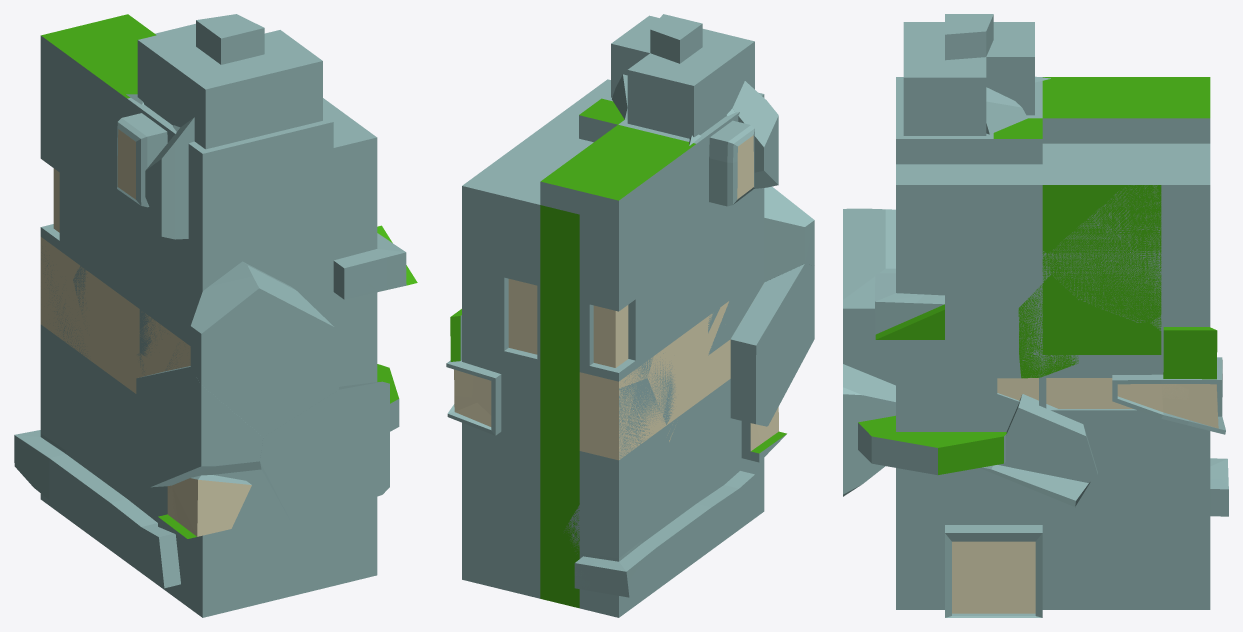
Rendered from BumpyBuilding.fbx.
3 views of the same model, side by side, from view 1: azimuth 30°, elevation 25°; view 2: azimuth 150°, elevation 25°; view 3: azimuth 270°, elevation 25° (orthographic). The views are drawn at different scales.
Visible parts, largest first — view 1: Building.001, Building.001_cell.068, Building.001_cell.055, Building.001_cell.095, Building.001_cell.033, Building.001_cell.034, Building.001_cell.088, Building.001_cell.022, Building.001_cell.023, Building.001_cell.007, Building.001_cell.090, Building.001_cell.076 (+20 smaller); view 2: Building.001, Building.001_cell.095, Building.001_cell.007, Building.001_cell.076, Building.001_cell.068, Building.001_cell.036, Building.001_cell.023, Building.001_cell.018, Building.001_cell.090, Building.001_cell.098, Building.001_cell.053, Building.001_cell.092 (+15 smaller); view 3: Building.001, Building.001_cell.012, Building.001_cell.068, Building.001_cell.087, Building.001_cell.055, Building.001_cell.069, Building.001_cell.019, Building.001_cell.044, Building.001_cell.085, Building.001_cell.081, Building.001_cell.009, Building.001_cell.046 (+15 smaller).
Part boxes in pixels (x1,y1,x2,y2): Building.001: (14,14,417,617); Building.001_cell.068: (190,261,338,436); Building.001_cell.055: (260,381,399,524); Building.001_cell.095: (136,366,263,487); Building.001_cell.033: (242,195,355,286); Building.001_cell.034: (262,471,355,596); Building.001_cell.088: (172,469,262,573); Building.001_cell.022: (173,551,289,614); Building.001_cell.023: (145,117,194,239); Building.001_cell.007: (139,246,202,371); Building.001_cell.090: (96,386,143,512); Building.001_cell.076: (53,45,109,244); Building.001: (446,14,786,617); Building.001_cell.095: (730,264,814,426); Building.001_cell.007: (708,217,764,355); Building.001_cell.076: (630,183,680,325); Building.001_cell.068: (764,186,814,282); Building.001_cell.036: (619,378,665,500); Building.001_cell.023: (732,81,778,188); Building.001_cell.018: (629,442,683,564); Building.001_cell.090: (669,442,716,523); Building.001_cell.098: (671,176,738,269); Building.001_cell.053: (564,502,599,576); Building.001_cell.092: (704,418,738,493); Building.001: (858,14,1228,617); Building.001_cell.012: (913,233,1050,342); Building.001_cell.068: (843,208,895,385); Building.001_cell.087: (1048,157,1185,322); Building.001_cell.055: (843,364,1003,496); Building.001_cell.069: (998,394,1097,482); Building.001_cell.019: (896,472,952,580); Building.001_cell.044: (943,468,1069,581); Building.001_cell.085: (1018,275,1078,380); Building.001_cell.081: (1091,467,1183,609); Building.001_cell.009: (1143,108,1210,164); Building.001_cell.046: (1154,411,1225,493).
Size of the model in its own units: 1119 by 2482 by 1626.
